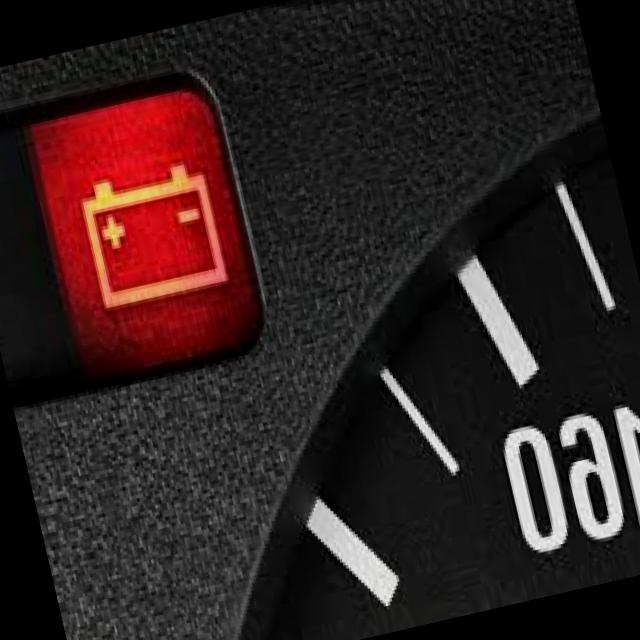kontrolka: (55, 138, 236, 326)
